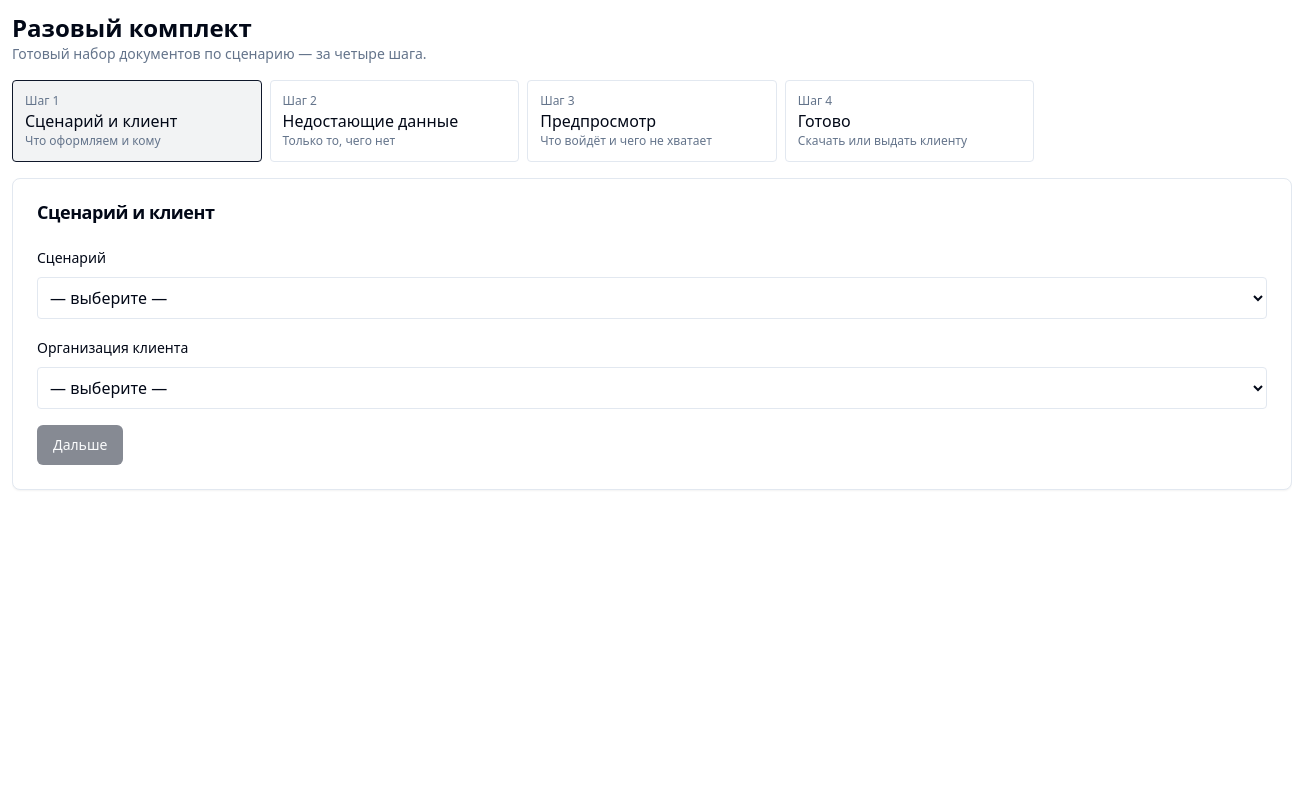
Test case: мастер разового комплекта › показывает состав комплекта до генерации
The width and height of the screenshot is (1292, 812).
Select "Охрана труда · Приём нового сотрудника" in the dropdown labelled "Сценарий" at (652, 298), box [37,277,1267,319]
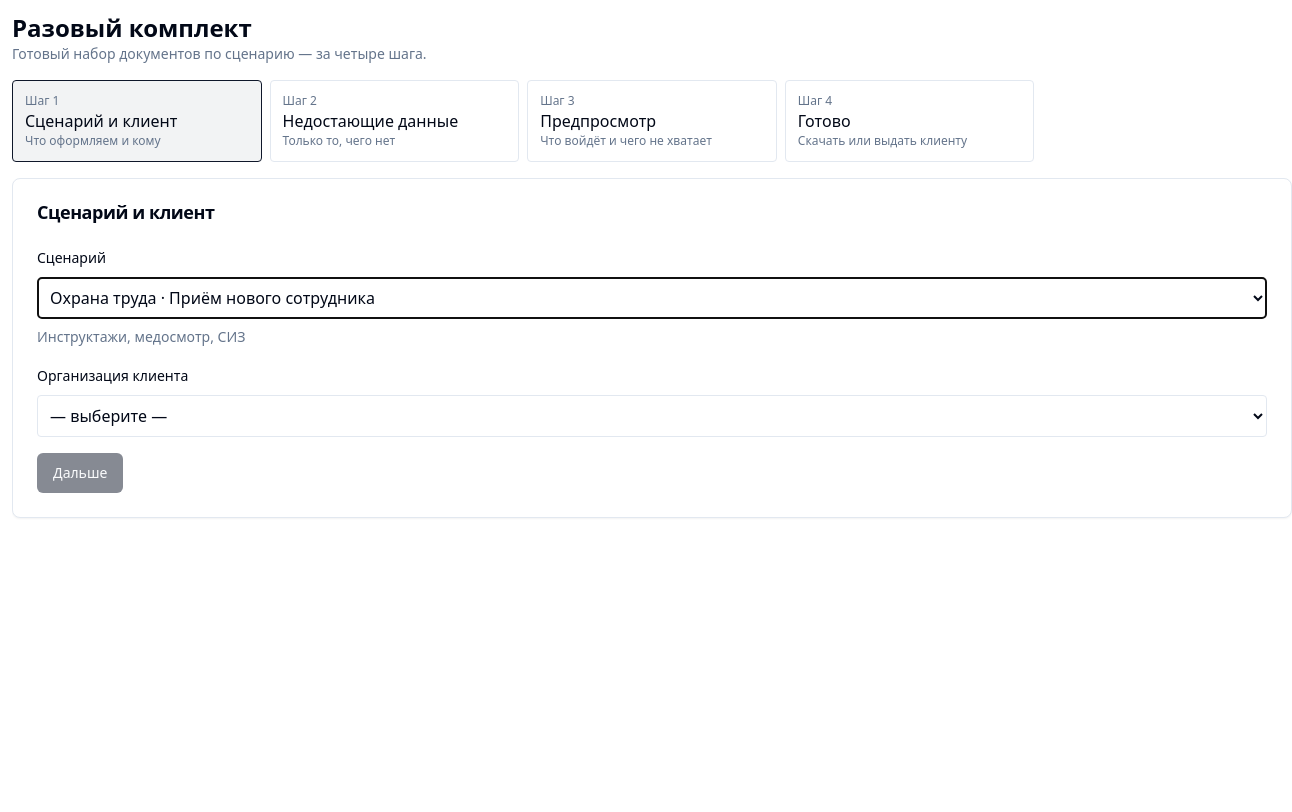
Select "ООО Ромашка" in the dropdown labelled "Организация клиента" at (652, 416), box [37,395,1267,437]
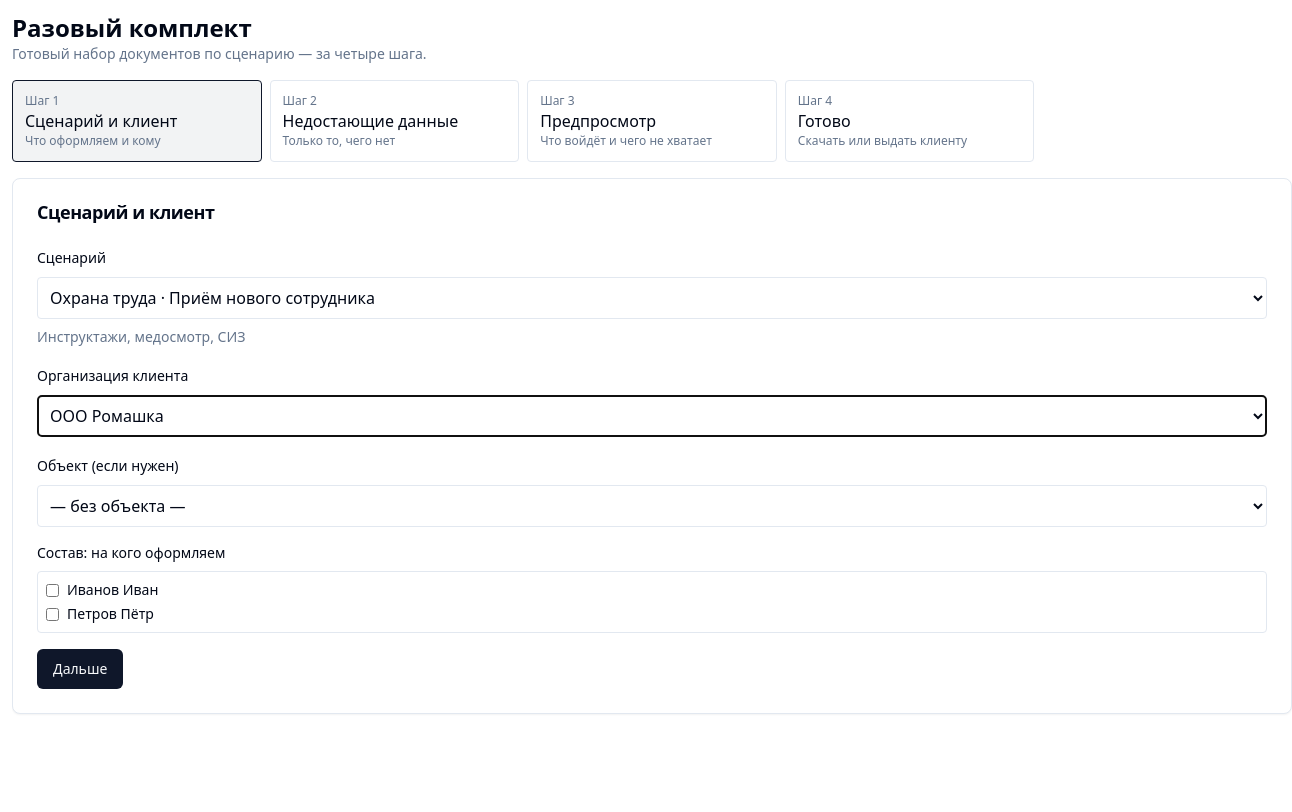
Click the button "Дальше" at (80, 669), box [37,649,123,689]
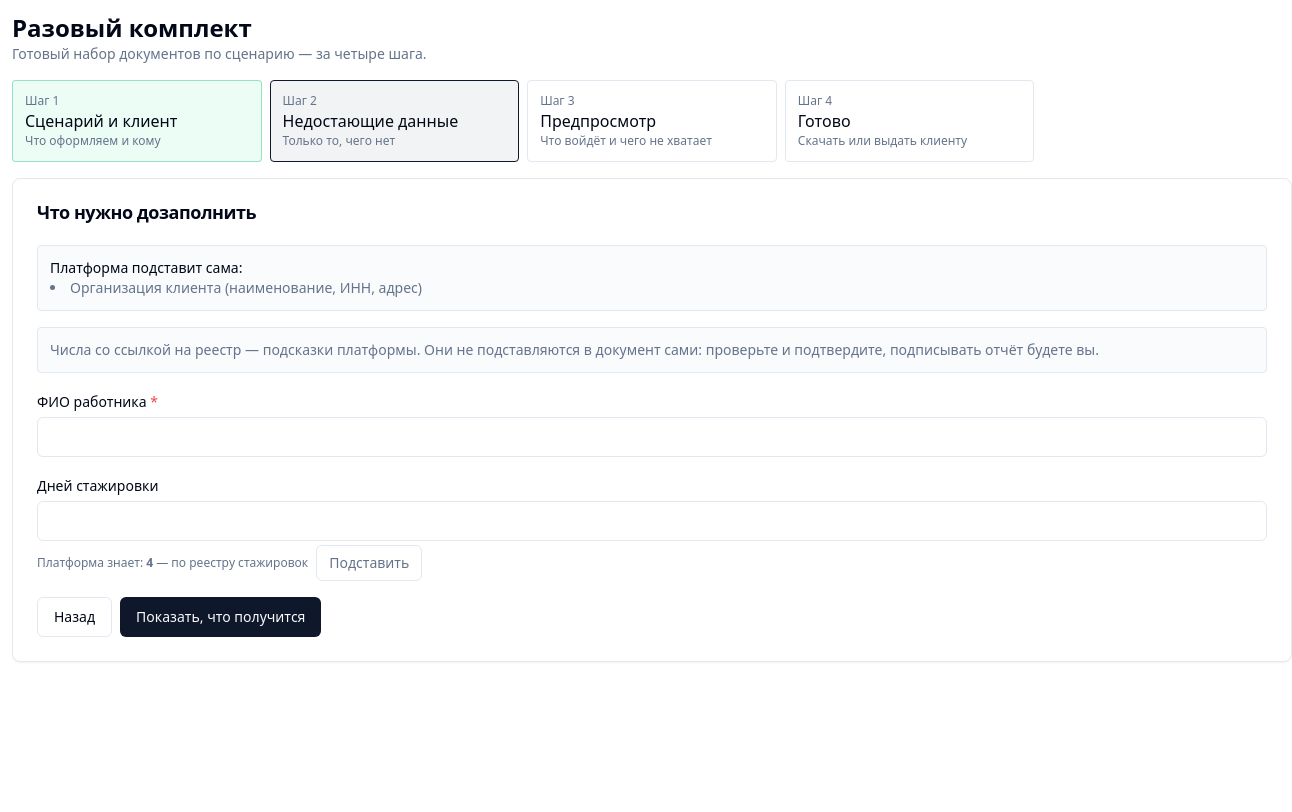
Expected: the field labelled "ФИО работника *" is shown, [37,417,1267,457]
Click the button "Показать, что получится" at (221, 617), box [120,597,322,637]
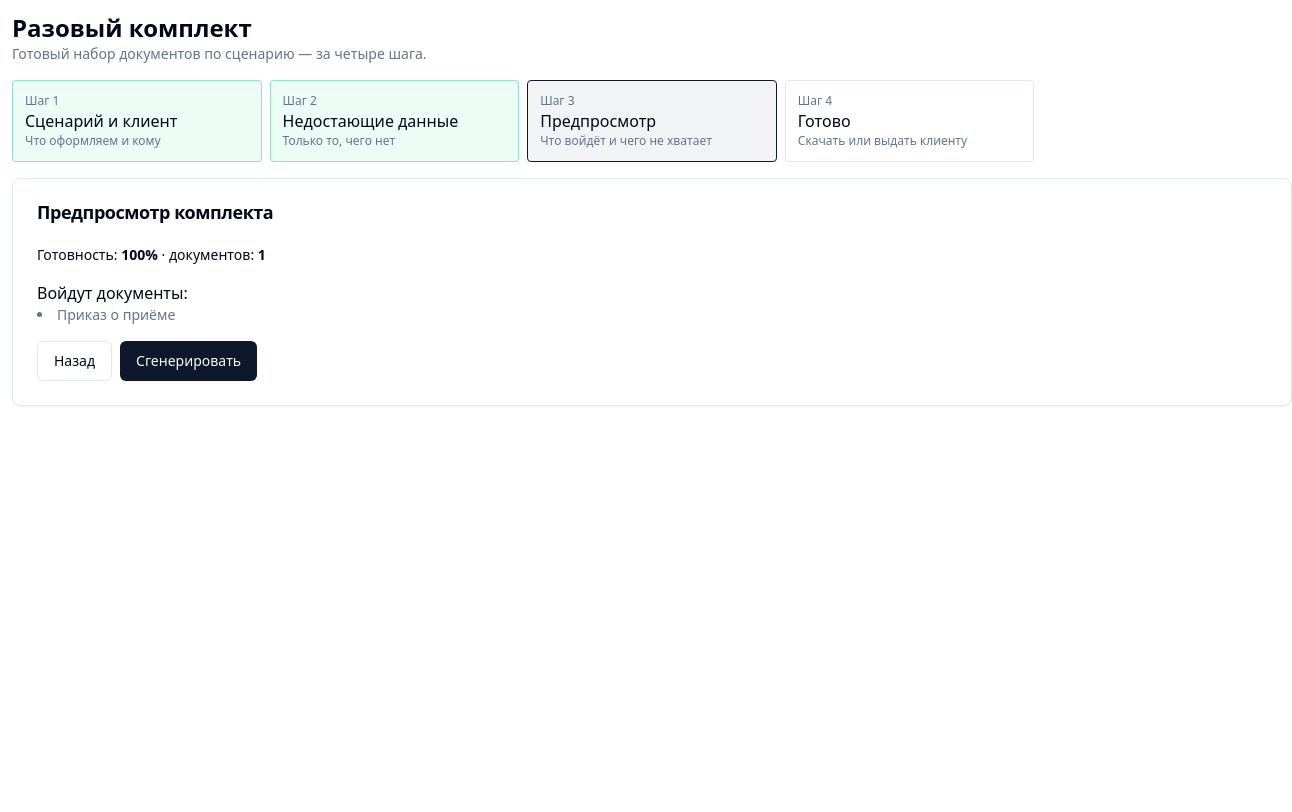
Expected: the list item "Приказ о приёме" is shown, [57,305,175,324]
Expected: the text "Готовность: 100% · документов: 1" is shown, [37,245,266,264]
